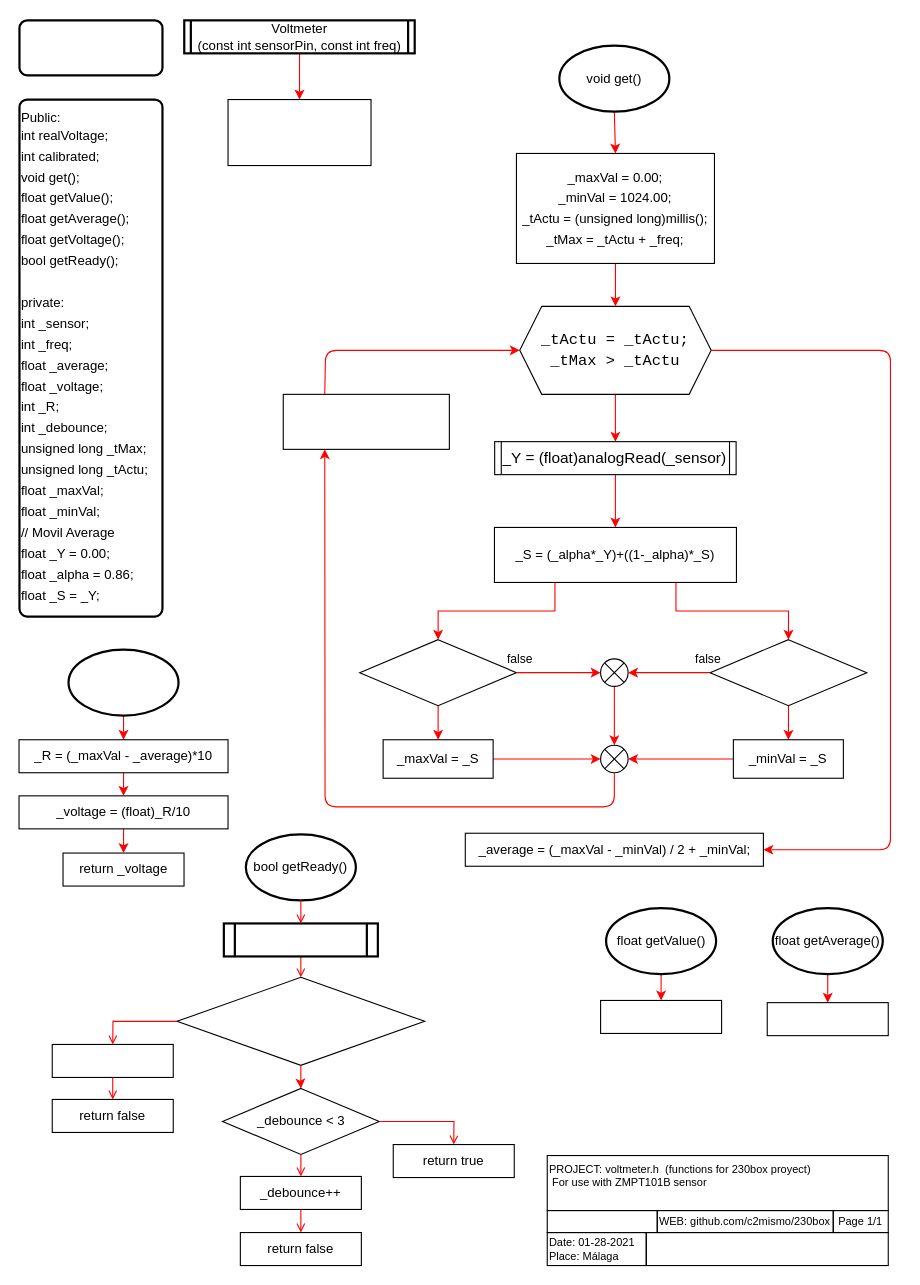
The diagram is 920 pixels wide and 1285 high, and some of its shapes have lost their labels. Here are the shapes that lost their labels. From the top down, the centre of each, then its label:
(x=90, y=47): #include "Arduino.h" #include "Voltmeter.h"
(x=299, y=132): _sensor = sensorPin; _freq = freq; _debounce = 0;
(x=365, y=421): _tActu = (unsigned long)millis()
(x=123, y=682): float getVoltage()
(x=437, y=672): _S > _maxVal
(x=788, y=672): _S < _minVal
(x=300, y=939): getVoltage()
(x=300, y=1020): _voltage > 190 && _voltage < 240
(x=661, y=1016): return _maxVal
(x=827, y=1019): return _average
(x=112, y=1060): _debounce = 0
(x=601, y=1221): Developer: c2mismo
(x=766, y=1248): License: GNU GPL3 https://www.gnu.org/licenses/gpl.html
